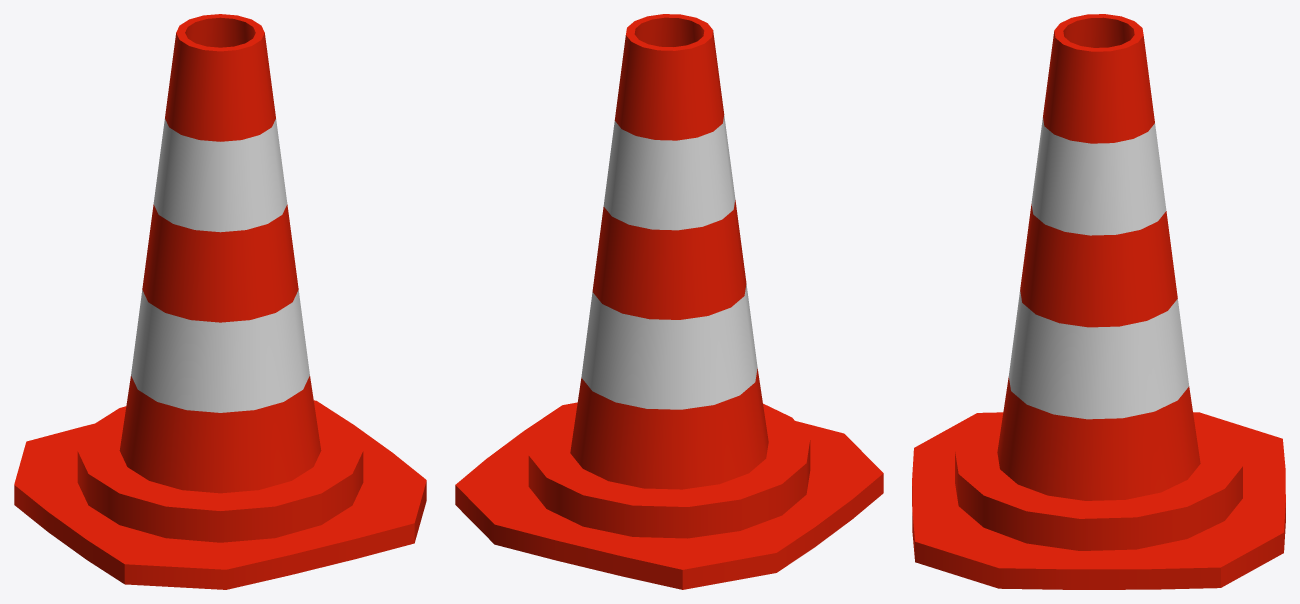
Rendered from Plot.FBX.
3 views of the same model, side by side, from view 1: azimuth 30°, elevation 25°; view 2: azimuth 150°, elevation 25°; view 3: azimuth 270°, elevation 25° (orthographic). The views are drawn at different scales.
Parts seen in each view (by area): view 1: Cylinder002; view 2: Cylinder002; view 3: Cylinder002.
Part boxes in pixels (x1=…): Cylinder002: x1=14, y1=14, x2=426, y2=589; Cylinder002: x1=455, y1=14, x2=883, y2=589; Cylinder002: x1=912, y1=14, x2=1285, y2=589.
Bounding box in the file's own units: 187 × 263 × 186.
